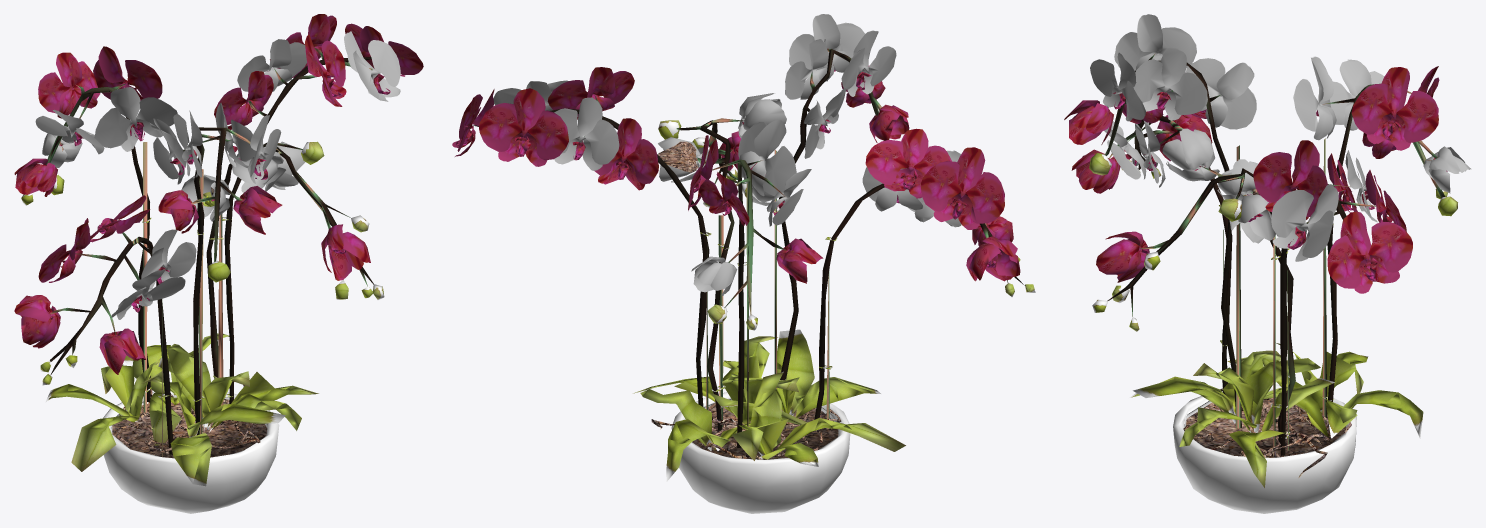
The model's file is plant2.glb.
3 views of the same model, side by side, from view 1: azimuth 30°, elevation 25°; view 2: azimuth 150°, elevation 25°; view 3: azimuth 270°, elevation 25° (orthographic). The views are drawn at different scales.
Visible parts, largest first — view 1: designconnected_plant_Orchid_pink_obj; view 2: designconnected_plant_Orchid_pink_obj; view 3: designconnected_plant_Orchid_pink_obj.
Part boxes in pixels (<box>): designconnected_plant_Orchid_pink_obj: <box>14,14,423,513</box>; designconnected_plant_Orchid_pink_obj: <box>452,14,1035,513</box>; designconnected_plant_Orchid_pink_obj: <box>1064,14,1471,513</box>.
Bounding box in the file's own units: 0.7398 × 0.6396 × 0.5265.
Materials: 6 (5 with a texture image).
